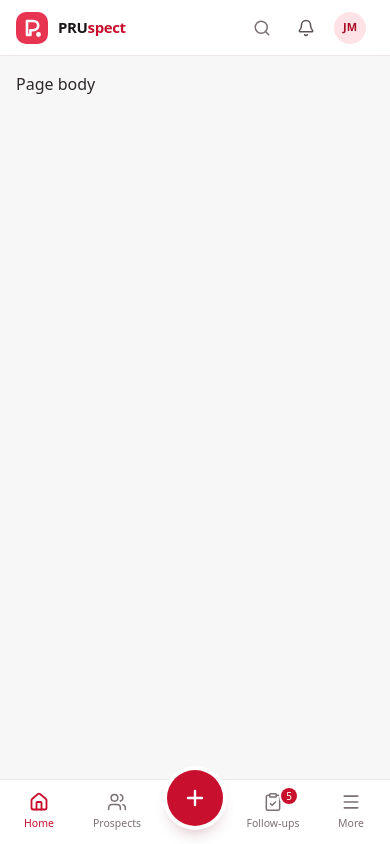
Test case: responsive navigation › offers a bottom bar and a drawer with all sections on phones
The image size is (390, 844).
What coordinates should you click on to do the following:
click the button with aria-label "more navigation"
I would click on:
 (351, 812)
Its box is [312,780,389,843].
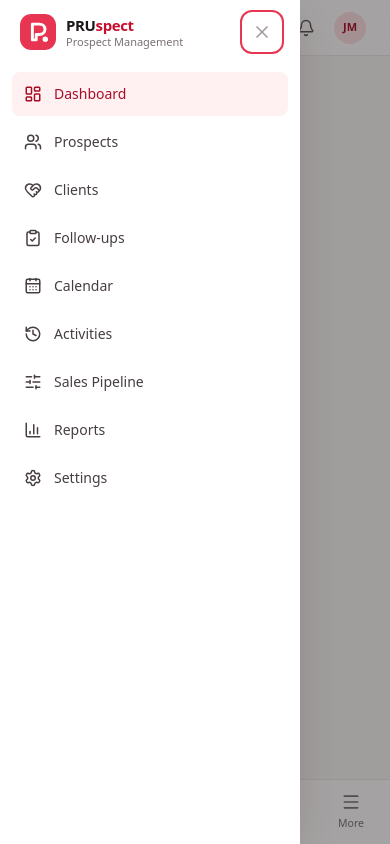
What coordinates should you click on to do the following:
click the link "Reports"
I would click on:
 (65, 430)
Its box is [24,420,105,439].
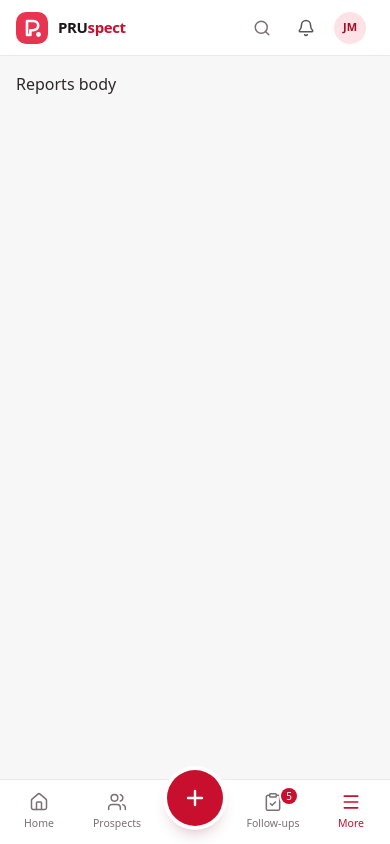
Expected: the text "Reports body" is shown, [16,73,116,95]
